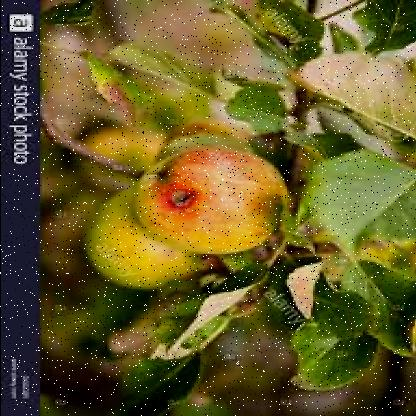apple: (84, 192, 166, 294)
damaged_apple: (143, 146, 284, 256)
